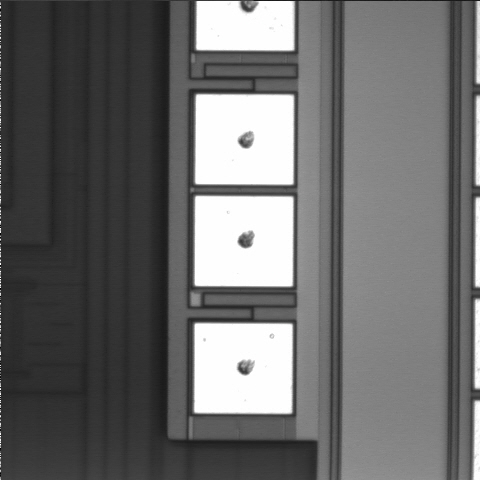pad: (195, 94, 294, 185), (194, 323, 292, 414), (195, 196, 293, 286)
